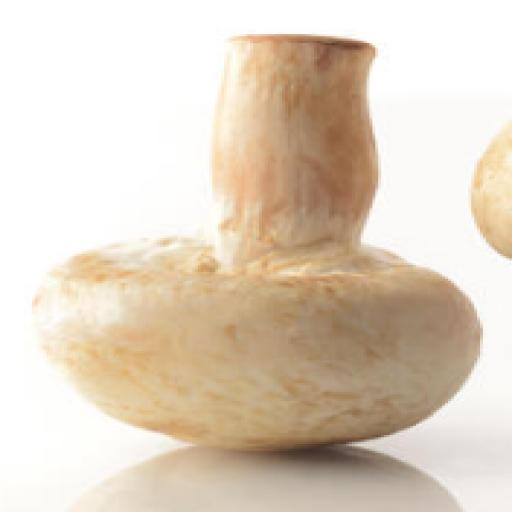Button Mushroom: (31, 24, 483, 444)
